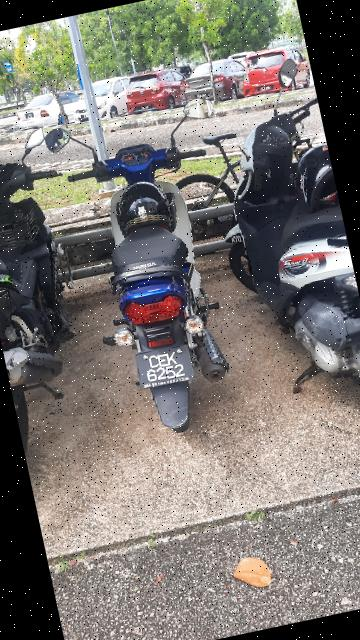License_Plate: (127, 331, 206, 403)
motorcycle: (30, 88, 278, 447)
